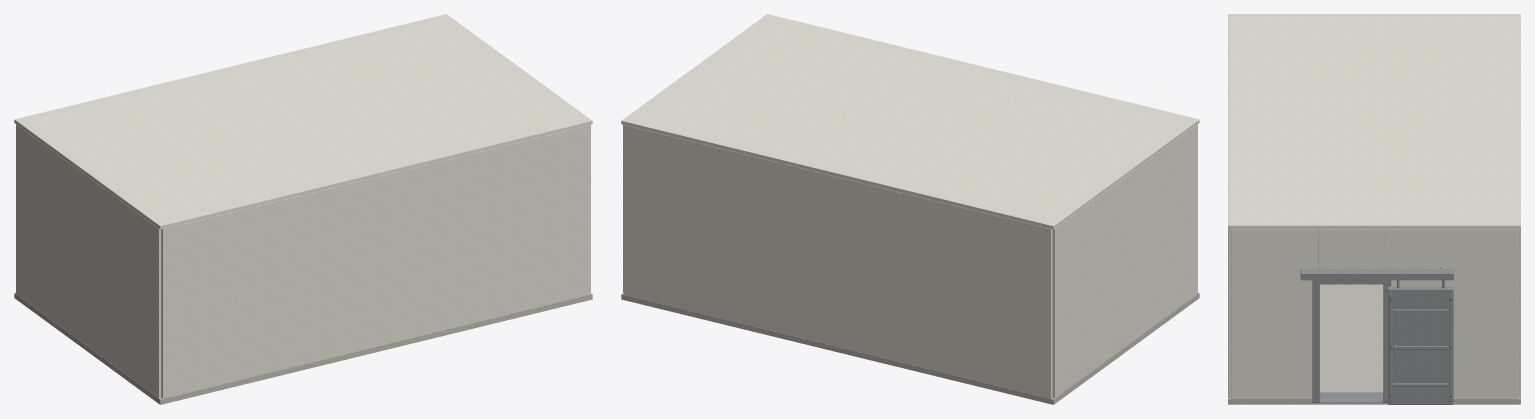
File: room.glb
3 views of the same model, side by side, from view 1: azimuth 30°, elevation 25°; view 2: azimuth 150°, elevation 25°; view 3: azimuth 270°, elevation 25° (orthographic).
Parts seen in each view (by area): view 1: Interior.LongWall.001, Interior.ManagementCeiling, Interior.WestWall, Interior.ManagementFloor; view 2: Interior.LongWall, Interior.ManagementCeiling, Interior.WestWall, Interior.ManagementFloor; view 3: Interior.ManagementCeiling, Interior.EastShell.Management_plaster, Interior.ManagementFloor, Interior.SecurityDoorLeaf.Management_steel, Interior.SecurityFrame.Management_steel, Interior.SecurityTrack.Management_steel, Interior.LongWall, Interior.LongWall.001.
Boxes of the visible parts, x1,y1,x2,y2 form: Interior.LongWall.001: (161,125,589,398); Interior.ManagementCeiling: (14,14,592,229); Interior.WestWall: (16,124,161,398); Interior.ManagementFloor: (14,292,592,404); Interior.LongWall: (624,125,1052,398); Interior.ManagementCeiling: (621,14,1199,229); Interior.WestWall: (1052,124,1197,398); Interior.ManagementFloor: (621,292,1199,404); Interior.ManagementCeiling: (1228,14,1520,228); Interior.EastShell.Management_plaster: (1231,229,1517,399); Interior.ManagementFloor: (1228,284,1520,404); Interior.SecurityDoorLeaf.Management_steel: (1388,286,1453,404); Interior.SecurityFrame.Management_steel: (1312,280,1391,402); Interior.SecurityTrack.Management_steel: (1300,267,1453,288); Interior.LongWall: (1518,229,1520,397); Interior.LongWall.001: (1228,229,1230,397).
Size of the model in its own units: 10.57 by 4 by 5.92.
22 materials, 12 textured.
